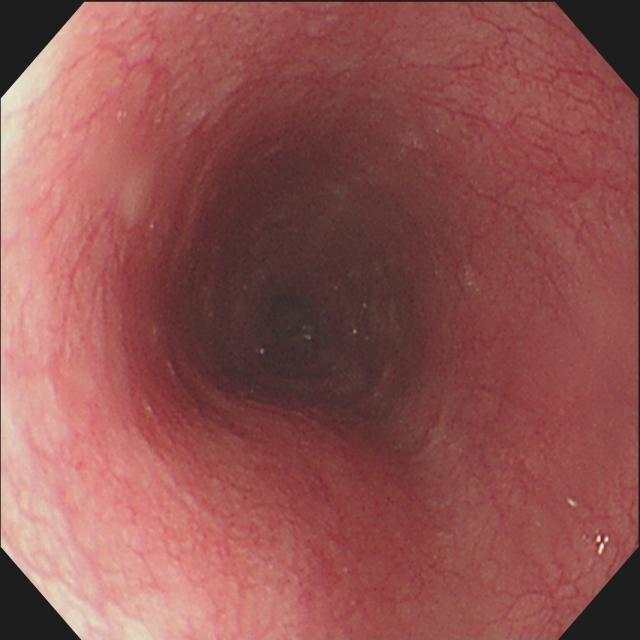E: (212, 201, 402, 414)
U: (596, 534, 612, 558)
